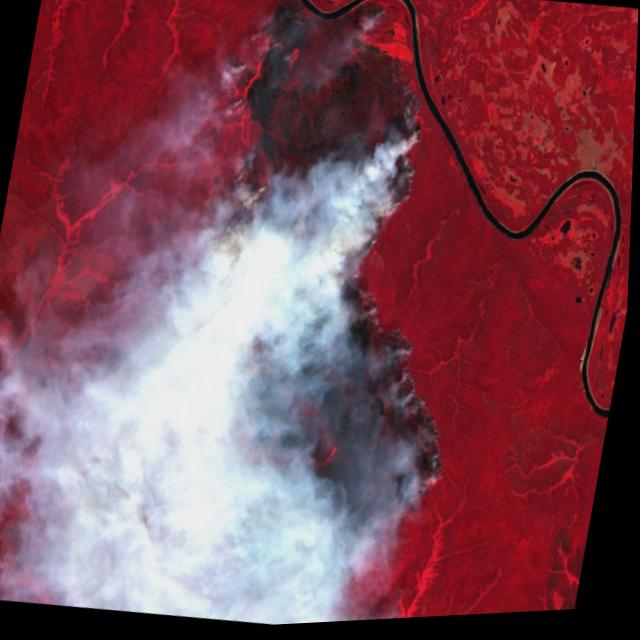fire: (135, 0, 542, 634)
